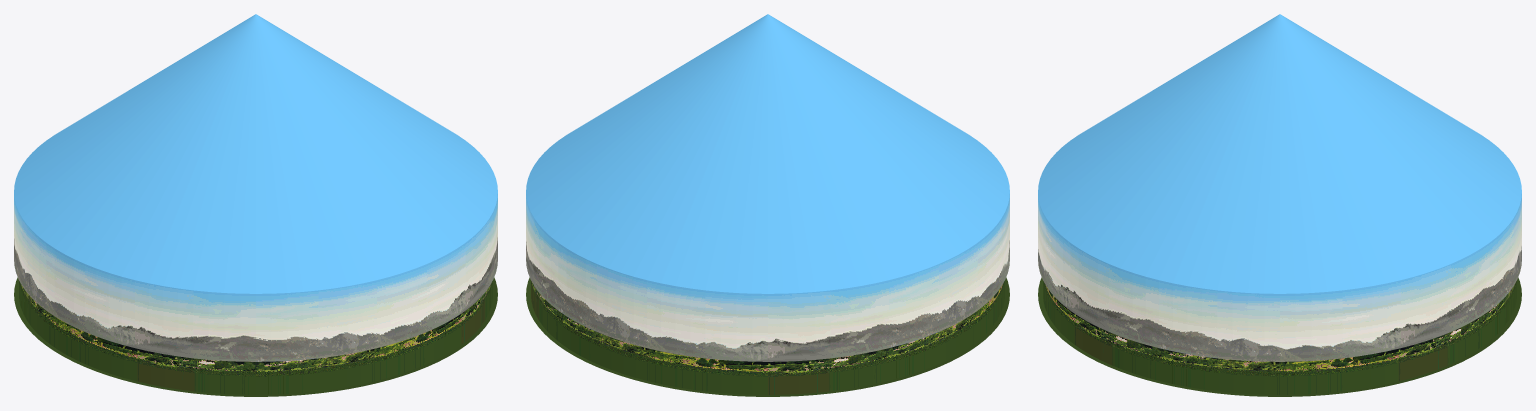
The model's file is sky-cy1.glb.
3 views of the same model, side by side, from view 1: azimuth 30°, elevation 25°; view 2: azimuth 150°, elevation 25°; view 3: azimuth 270°, elevation 25° (orthographic).
Parts seen in each view (by area): view 1: sky-cy1; view 2: sky-cy1; view 3: sky-cy1.
Boxes of the visible parts, x1,y1,x2,y2 form: sky-cy1: (14, 14, 497, 396); sky-cy1: (526, 14, 1009, 396); sky-cy1: (1038, 14, 1521, 396).
Size of the model in its own units: 2 by 1.7 by 2.
4 materials, 4 textured.
